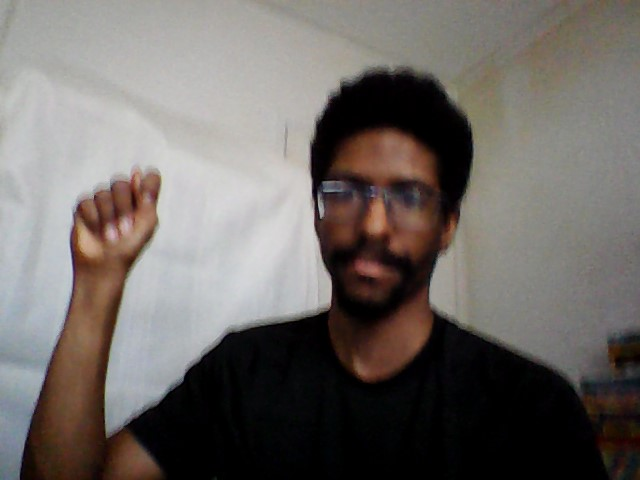t: (65, 166, 167, 266)
